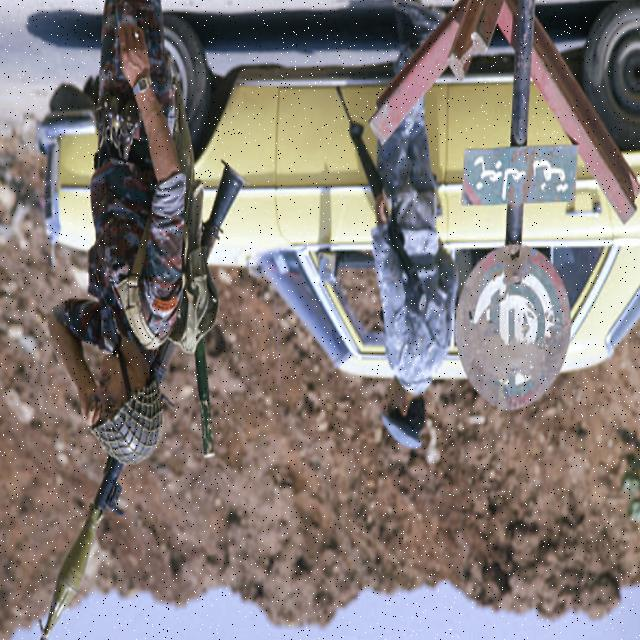bazooka: (34, 157, 251, 640)
